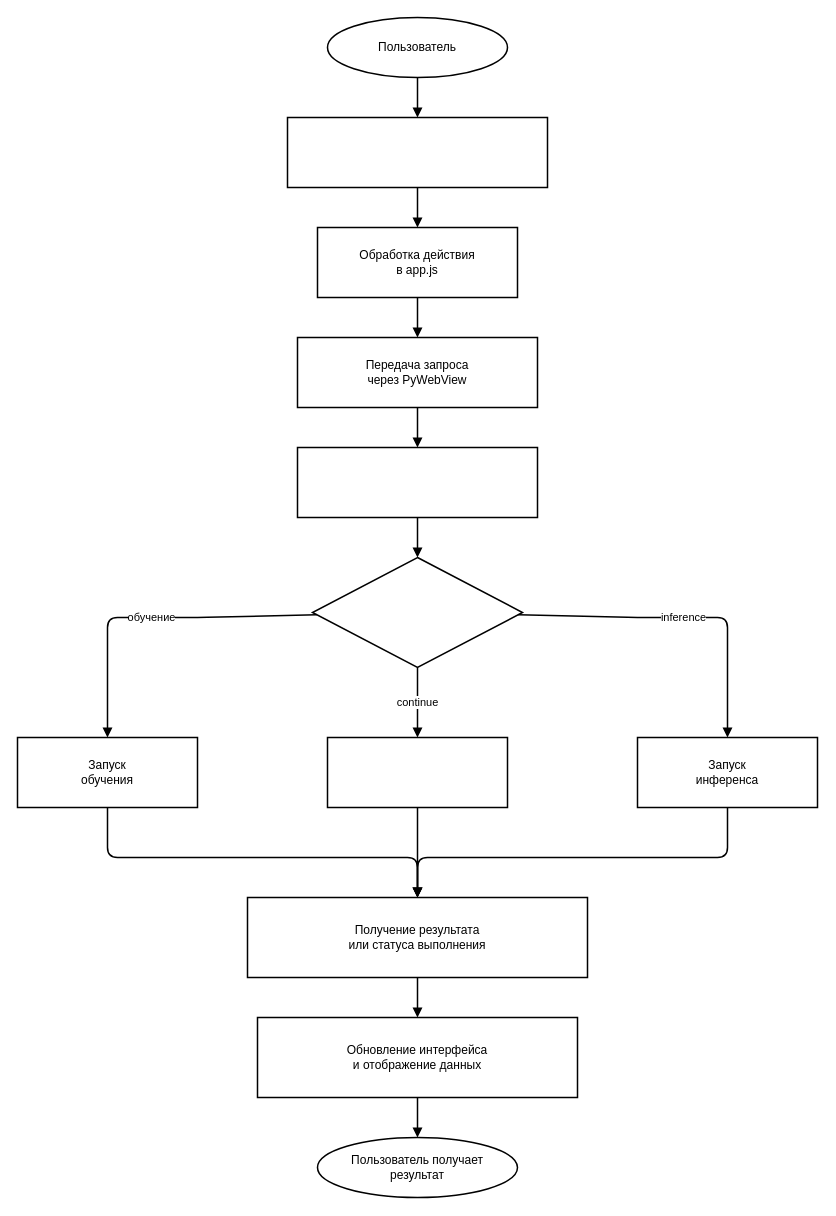
Image size: 836x1216. Some labels were removed from this diagram. The shapes that lost their labels are listed below. From the top down, each one's box as (x1, y1, x2, y2) in pixels, then its label:
(286, 116, 548, 188): Взаимодействие с веб-интерфейсом
(296, 446, 538, 518): Управляющий модуль приложения
(311, 556, 523, 668): Тип выполняемой операции
(326, 736, 508, 808): Продолжение обучения
